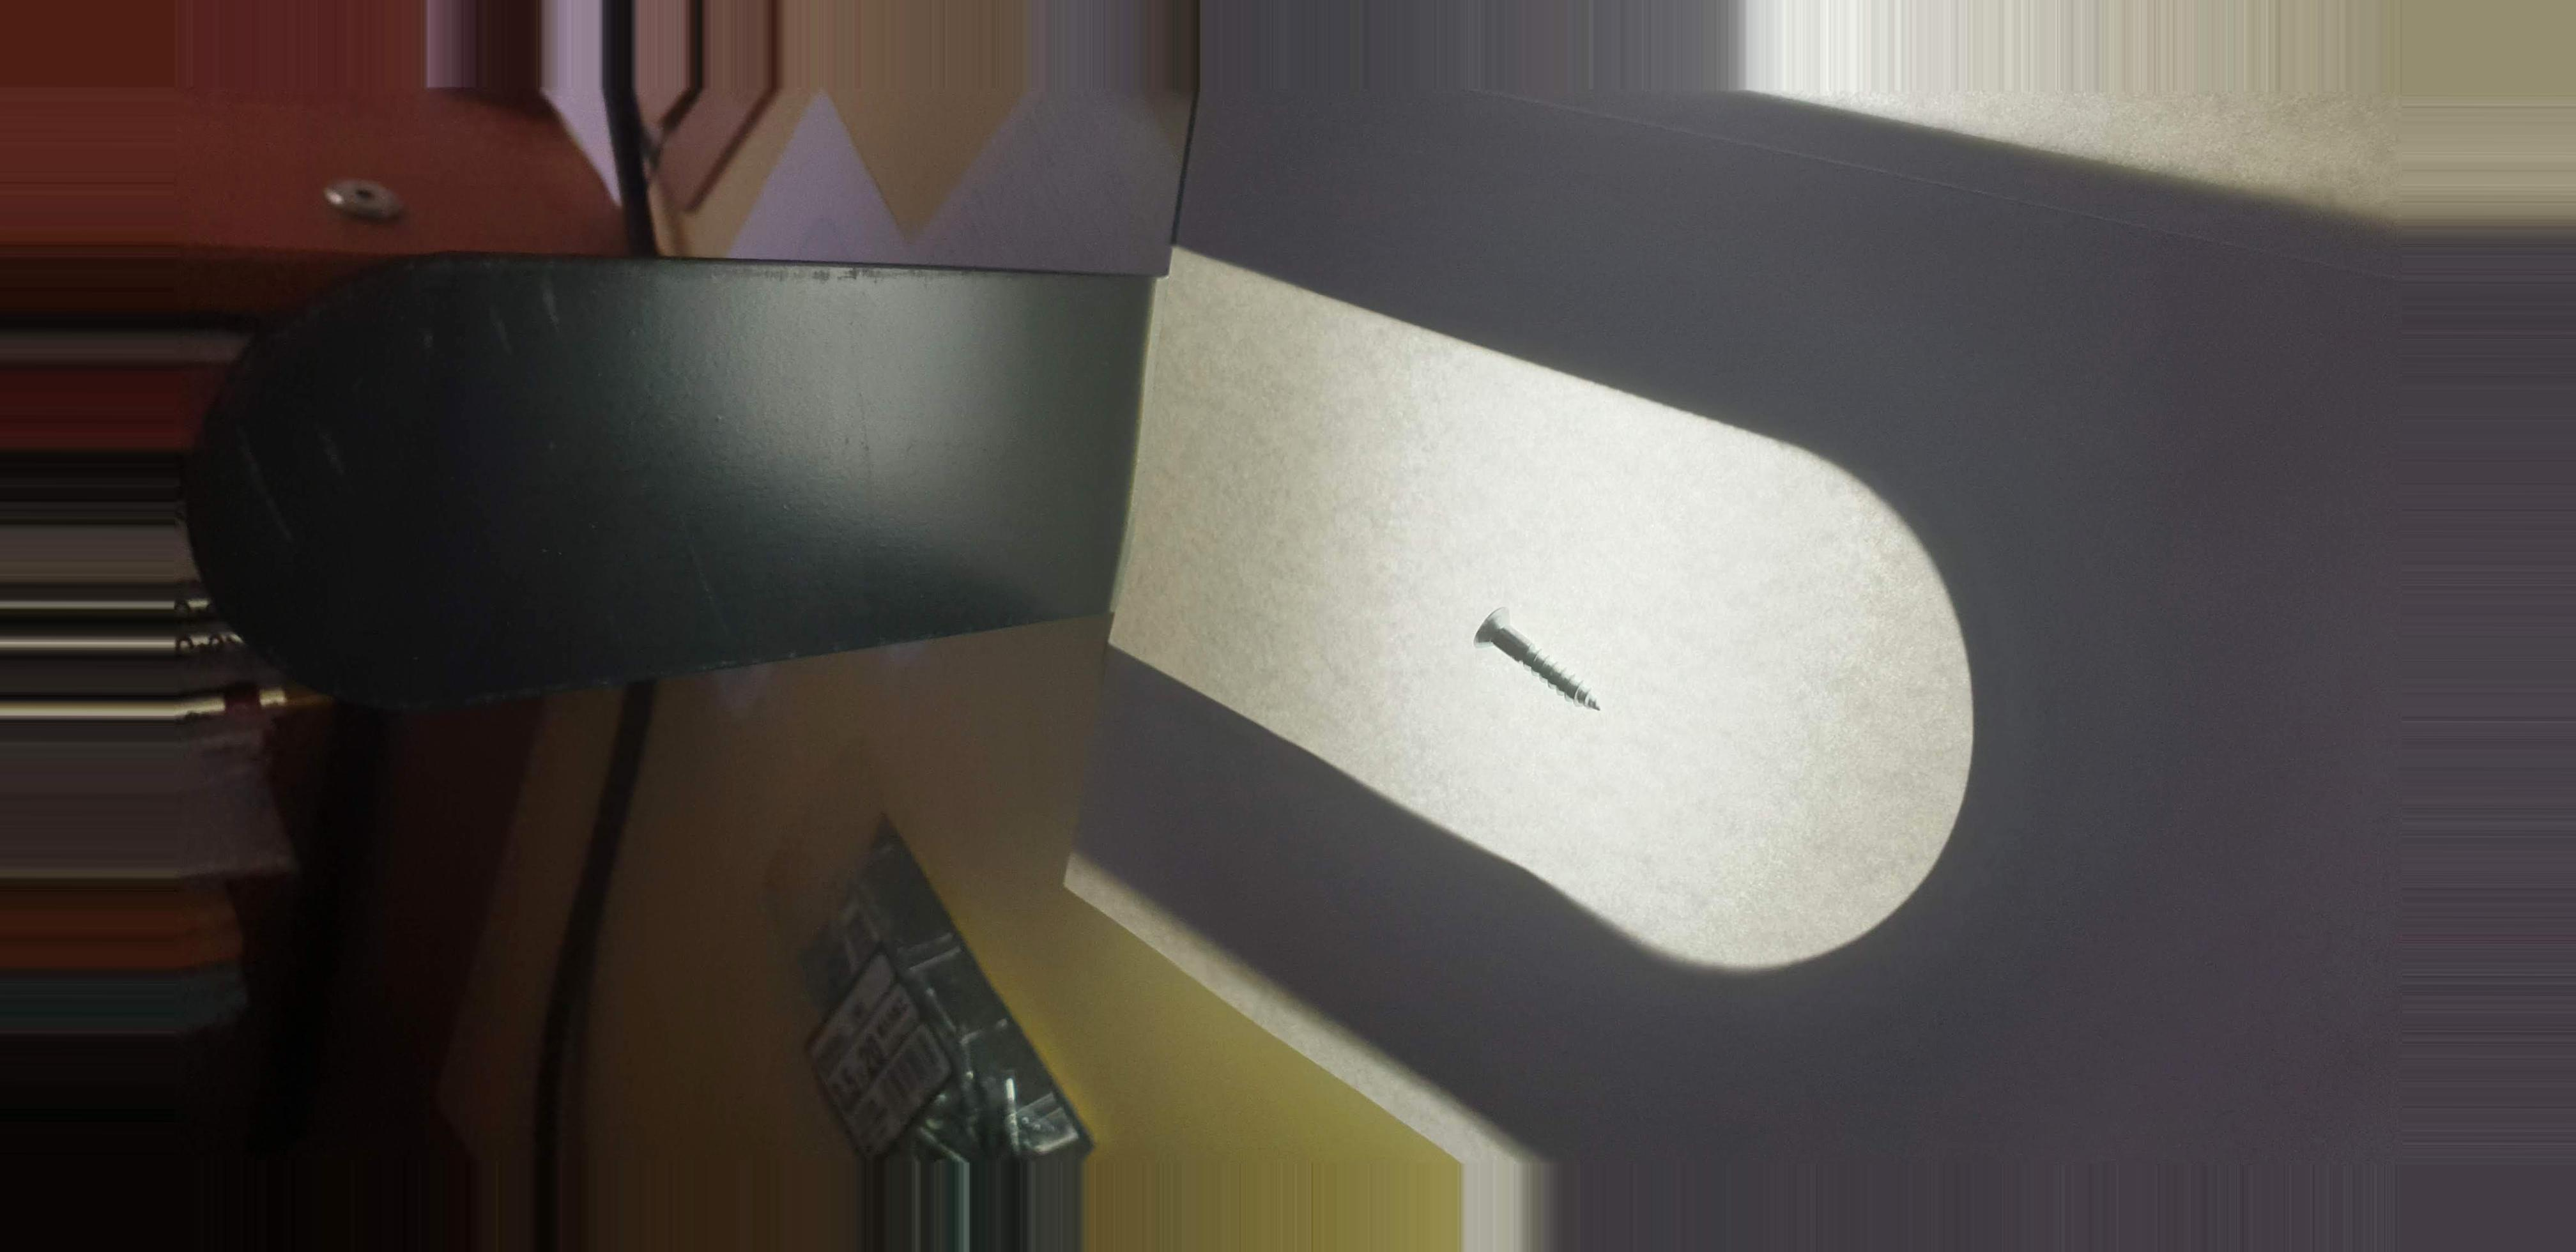S005: (1446, 587, 1659, 739)
